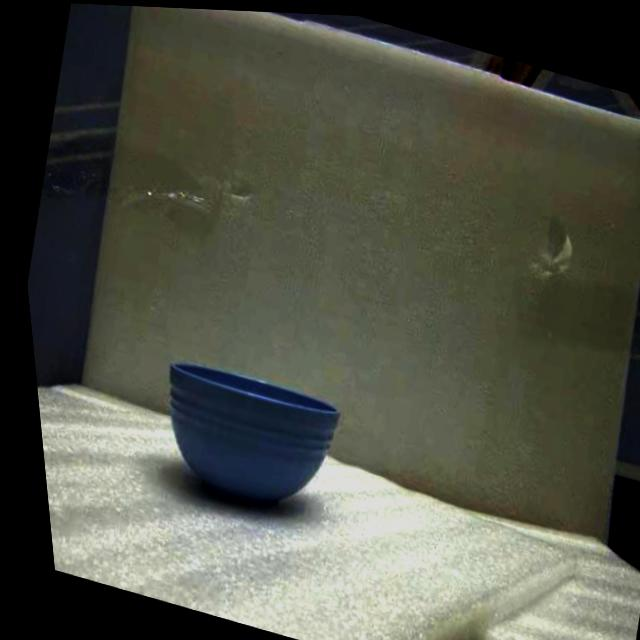Bowl: (170, 364, 337, 505)
